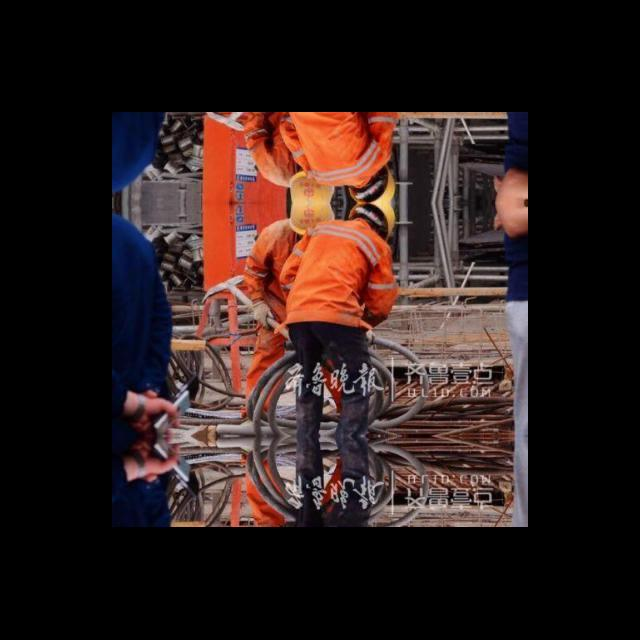Gloves: (253, 304, 273, 336)
Hardhat: (287, 201, 337, 234), (346, 202, 396, 235), (287, 173, 334, 203), (349, 176, 397, 202)
NO-Safety Vest: (112, 227, 163, 416), (112, 116, 161, 188), (505, 230, 528, 304), (503, 112, 528, 174)
Person: (279, 201, 401, 491), (247, 205, 344, 421), (112, 210, 191, 443), (281, 113, 404, 206), (241, 113, 335, 207), (502, 218, 528, 528), (112, 442, 180, 528), (112, 113, 165, 196), (499, 112, 528, 202)
Safety Vest: (288, 221, 386, 326), (293, 114, 385, 184), (256, 223, 301, 317), (259, 112, 301, 182)
